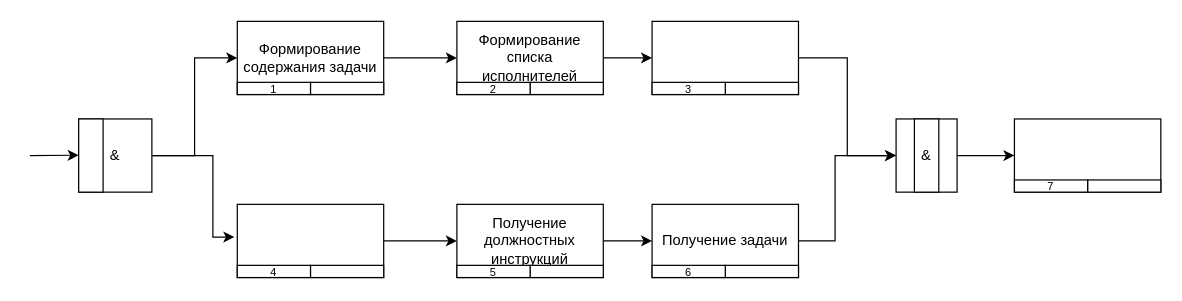
The diagram is 1182 pixels wide and 301 high, and some of its shapes have lost their labels. Each missing label, with the box of its shape:
Вступление в должность: (236, 203, 384, 278)
Исполнение задачи: (1013, 118, 1161, 192)
Формирование сроков выполнения: (651, 20, 798, 95)
